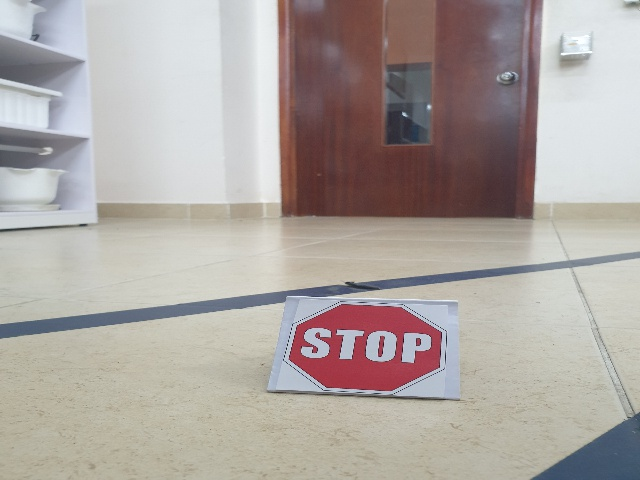Stop: (284, 302, 448, 393)
